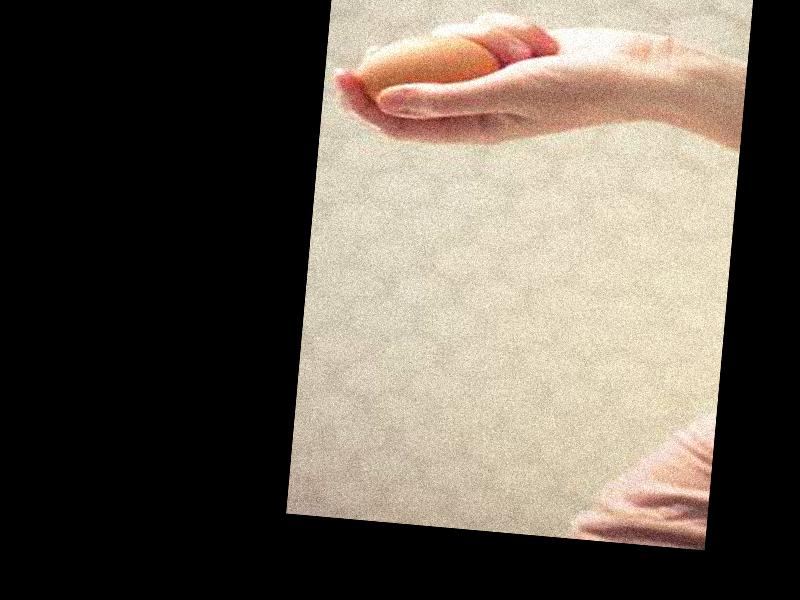Eggs: (355, 25, 501, 119)
